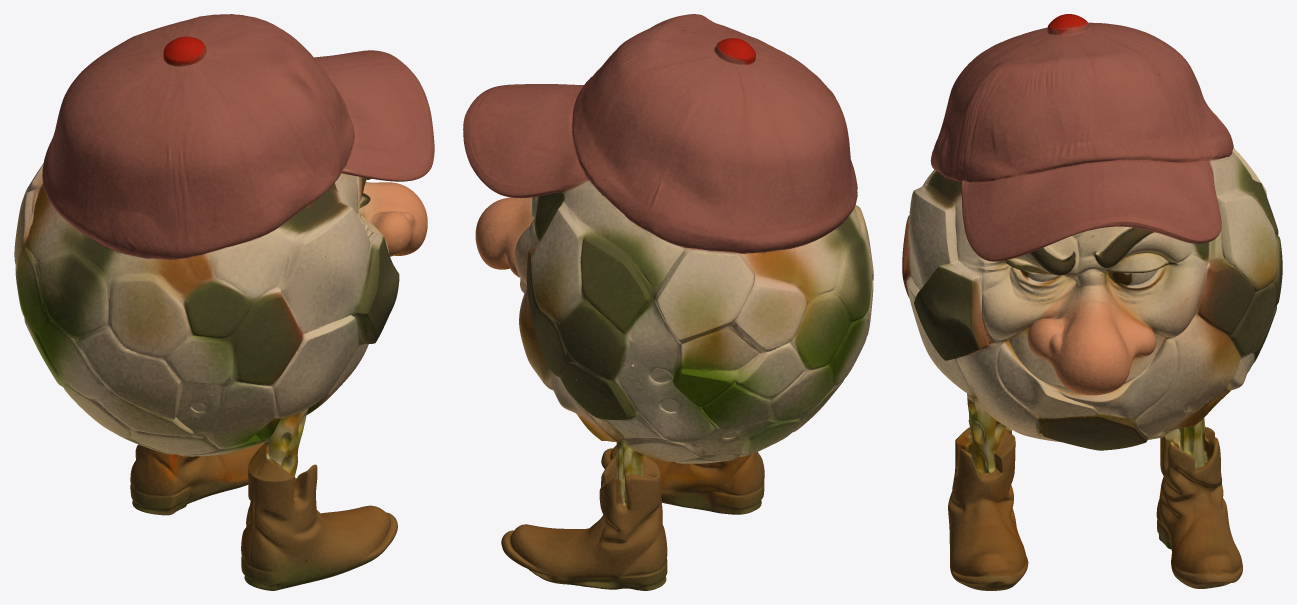
Rendered from alessio_ai_model.glb.
The picture shows the model from 3 angles, left to right: view 1: azimuth 30°, elevation 25°; view 2: azimuth 150°, elevation 25°; view 3: azimuth 270°, elevation 25°; orthographic projection. The views are drawn at different scales.
Visible parts, largest first — view 1: Object_4, Object_7, Object_3, Object_5, Object_6, Object_2; view 2: Object_6, Object_5, Object_7, Object_3, Object_4, Object_2, Object_8; view 3: Object_3, Object_6, Object_4, Object_7, Object_5, Object_2, Object_8.
Part boxes in pixels (bbox=[...]): Object_4: bbox=[43, 176, 386, 514]; Object_7: bbox=[56, 14, 387, 293]; Object_3: bbox=[221, 14, 434, 352]; Object_5: bbox=[19, 300, 352, 590]; Object_6: bbox=[14, 126, 427, 570]; Object_2: bbox=[14, 15, 433, 586]; Object_6: bbox=[475, 169, 850, 503]; Object_5: bbox=[501, 299, 863, 590]; Object_7: bbox=[499, 18, 849, 278]; Object_3: bbox=[463, 14, 706, 210]; Object_4: bbox=[502, 147, 873, 590]; Object_2: bbox=[466, 16, 872, 578]; Object_8: bbox=[487, 156, 566, 198]; Object_3: bbox=[908, 55, 1227, 430]; Object_6: bbox=[909, 144, 1281, 590]; Object_4: bbox=[902, 155, 1250, 588]; Object_7: bbox=[931, 14, 1260, 338]; Object_5: bbox=[948, 232, 1282, 588]; Object_2: bbox=[909, 15, 1282, 577]; Object_8: bbox=[1190, 185, 1221, 239].
Bounding box in the file's own units: 0.764 × 1 × 0.6752.
1 material, 1 textured.
